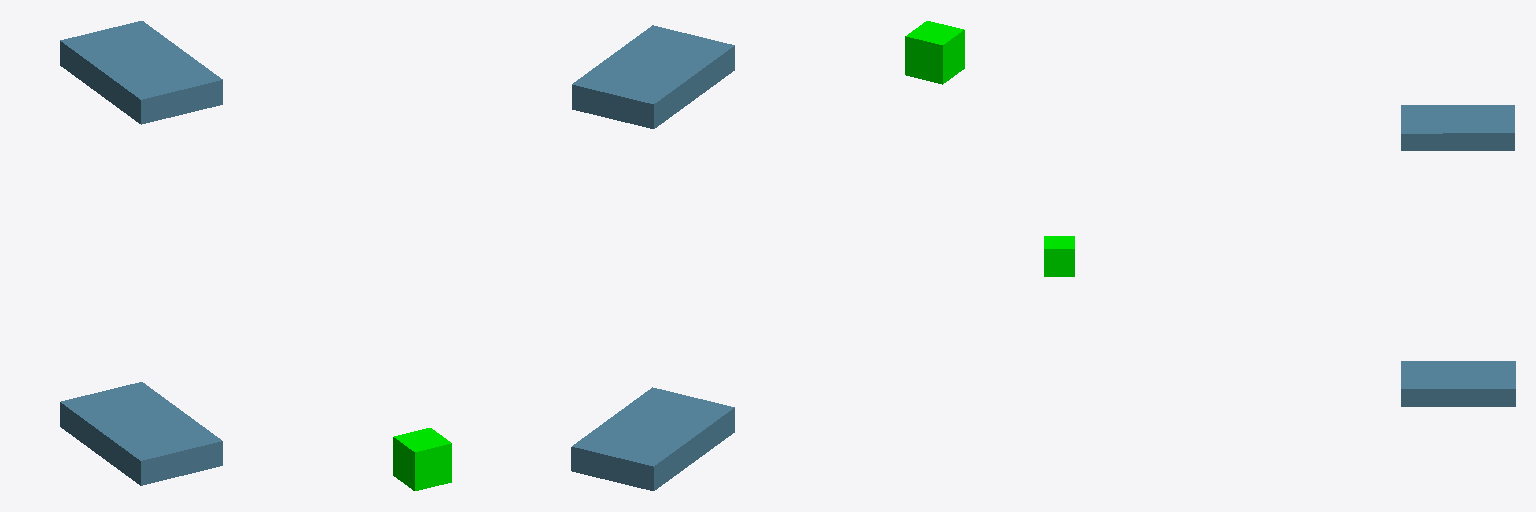
The robot description file, URDF, robot "robotiq_arg2f_85_model":
<?xml version="1.0" ?>
<!-- =================================================================================== -->
<!-- |    This document was autogenerated by xacro from robotiq_arg2f_85_model.xacro   | -->
<!-- |    EDITING THIS FILE BY HAND IS NOT RECOMMENDED                                 | -->
<!-- =================================================================================== -->
<robot name="robotiq_arg2f_85_model" kind="Gripper">
  <link name="placeholder">
    <visual>
      <geometry>
        <box size="0.01 0.01 0.01"/>
      </geometry>
      <material name="red">
        <color rgba="0 1 0 0.5"/>
      </material>
    </visual>
  </link>
  <joint name="joint_placeholder_second" type="fixed">
    <parent link="placeholder"/>
    <child link="robotiq_arg2f_base_link"/>
    <origin rpy="-1.57 0.0 0.0" xyz="0.0 0.0 0.0"/>
    <axis xyz="0 -1 0"/>
  </joint>
  <link name="robotiq_arg2f_base_link">
    <inertial>
      <origin rpy="0 0 0" xyz="8.625E-08 -4.6583E-06 0.03145"/>
      <mass value="0.22652"/>
      <inertia ixx="0.00020005" ixy="-4.2442E-10" ixz="-2.9069E-10" iyy="0.00017832" iyz="-3.4402E-08" izz="0.00013478"/>
    </inertial>
    <visual>
      <origin rpy="0 0 0" xyz="0 0 0"/>
      <geometry>
        <mesh filename="visual/robotiq_arg2f_85_base_link.dae" scale="0.001 0.001 0.001"/>
      </geometry>
      <material name="LightGrey">
        <color rgba="0.7 0.7 0.7 1.0"/>
      </material>
    </visual>
    <collision>
      <origin rpy="0 0 0" xyz="0 0 0"/>
      <geometry>
        <mesh filename="collision/robotiq_arg2f_base_link.stl"/>
      </geometry>
    </collision>
  </link>
  <joint name="finger_joint" type="revolute">
    <origin rpy="0 0 3.14159265359" xyz="0 -0.0306011 0.054904"/>
    <parent link="robotiq_arg2f_base_link"/>
    <child link="left_outer_knuckle"/>
    <axis xyz="1 0 0"/>
    <limit effort="1000" lower="0" upper="0.8757" velocity="2.0"/>
  </joint>
  <link name="left_outer_knuckle">
    <inertial>
        <origin xyz="-0.000200000000003065 0.0199435877845359 0.0292245259211331" rpy="0 0 0" />
        <mass value="0.00853198276973456" />
        <inertia ixx="2.89328108496468E-06" ixy="-1.57935047237397E-19" ixz="-1.93980378593255E-19" iyy="1.86719750325683E-06" iyz="-1.21858577871576E-06" izz="1.21905238907251E-06" />
        </inertial>
    <visual>
      <origin rpy="0 0 0" xyz="0 0 0"/>
      <geometry>
        <mesh filename="visual/robotiq_arg2f_85_outer_knuckle.dae" scale="0.001 0.001 0.001"/>
      </geometry>
      <material name="">
        <color rgba="1 1 0 1"/>
      </material>
    </visual>
    <collision>
      <origin rpy="0 0 0" xyz="0 0 0"/>
      <geometry>
        <mesh filename="collision/robotiq_arg2f_85_outer_knuckle.dae" scale="0.001 0.001 0.001"/>
      </geometry>
    </collision>
  </link>
  <joint name="left_outer_finger_joint" type="fixed">
    <origin rpy="0 0 0" xyz="0 0.0315 -0.0041"/>
    <parent link="left_outer_knuckle"/>
    <child link="left_outer_finger"/>
    <axis xyz="1 0 0"/>
  </joint>
  <link name="left_outer_finger">
    <inertial>
        <origin xyz="0.00030115855001899 0.0373907951953854 -0.0208027427000385" rpy="0 0 0" />
        <mass value="0.022614240507152" />
        <inertia ixx="1.52518312458174E-05" ixy="9.76583423954399E-10" ixz="-5.43838577022588E-10" iyy="6.17694243867776E-06" iyz="6.78636130740228E-06" izz="1.16494917907219E-05" />
        </inertial>
    <visual>
      <origin rpy="0 0 0" xyz="0 0 0"/>
      <geometry>
        <mesh filename="visual/robotiq_arg2f_85_outer_finger.dae" scale="0.001 0.001 0.001"/>
      </geometry>
      <material name="LightGrey">
        <color rgba="0 1 1 1.0"/>
      </material>
    </visual>
    <collision>
      <origin rpy="0 0 0" xyz="0 0 0"/>
      <geometry>
        <mesh filename="collision/robotiq_arg2f_85_outer_finger.dae" scale="0.001 0.001 0.001"/>
      </geometry>
    </collision>
  </link>
  <joint name="left_inner_finger_joint" type="revolute">
    <origin rpy="0 0 0" xyz="0 0.0061 0.0471"/>
    <parent link="left_outer_finger"/>
    <child link="left_inner_finger"/>
    <axis xyz="1 0 0"/>
    <limit effort="1000" lower="-0.8757" upper="0" velocity="2.0"/>
    <mimic joint="finger_joint" multiplier="-1" offset="0"/>
  </joint>
  <link name="left_inner_finger">
    <inertial>
        <origin xyz="0.000299999999999317 0.0160078233491243 -0.0136945669206257" rpy="0 0 0" />
        <mass value="0.0104003125914103" />
        <inertia ixx="2.71909453810972E-06" ixy="1.35402465472579E-21" ixz="-7.1817349065269E-22" iyy="7.69100314106116E-07" iyz="6.74715432769696E-07" izz="2.30315190420171E-06" />
        </inertial>
    <visual>
      <origin rpy="0 0 0" xyz="0 0 0"/>
      <geometry>
        <mesh filename="visual/robotiq_arg2f_85_inner_finger.dae" scale="0.001 0.001 0.001"/>
      </geometry>
      <material name="LightGrey">
        <color rgba="1 0 1 1.0"/>
      </material>
    </visual>
    <collision>
      <origin rpy="0 0 0" xyz="0 0 0"/>
      <geometry>
        <mesh filename="collision/robotiq_arg2f_85_inner_finger.dae" scale="0.001 0.001 0.001"/>
      </geometry>
    </collision>
  </link>
  <joint name="left_inner_finger_pad_joint" type="fixed">
    <origin rpy="0 0 0" xyz="0 -0.0220203446692936 0.03242"/>
    <parent link="left_inner_finger"/>
    <child link="left_inner_finger_pad"/>
    <axis xyz="0 0 1"/>
  </joint>
  <link name="left_inner_finger_pad">
    <contact>
      <friction_anchor/>
      <stiffness value="30000.0"/>
      <damping value="60000.0"/>
      <spinning_friction value="0.02"/>
      <rolling_friction value="0.02"/>
      <lateral_friction value="1.0"/>
    </contact>
    <inertial>
      <mass value="1."/>
      <inertia ixx="1E-10" ixy="1E-10" ixz="1E-10" iyy="1E-10" iyz="1E-10" izz="1E-10"/>
    </inertial>
    <visual>
      <origin rpy="0 0 0" xyz="0 0 0"/>
      <geometry>
        <box size="0.022 0.00635 0.0375"/>
      </geometry>
      <material name="UR-Blue">
        <color rgba="0.376 0.576 0.674 1.0"/>
      </material>
    </visual>
    <collision>
      <origin rpy="0 0 0" xyz="0 0 0"/>
      <geometry>
        <box size="0.022 0.00635 0.0375"/>
      </geometry>
      <material name="">
        <color rgba="0.9 0.0 0.0 1"/>
      </material>
    </collision>
  </link>
  <joint name="left_inner_knuckle_joint" type="revolute">
    <!-- <origin xyz="0 ${reflect * -0.0127} 0.06142" rpy="${pi / 2 + .725} 0 ${(reflect - 1) * pi / 2}" /> -->
    <origin rpy="0 0 3.14159265359" xyz="0 -0.0127 0.06142"/>
    <parent link="robotiq_arg2f_base_link"/>
    <child link="left_inner_knuckle"/>
    <axis xyz="1 0 0"/>
    <limit effort="1000" lower="0" upper="0.8757" velocity="2.0"/>
    <mimic joint="finger_joint" multiplier="1" offset="0"/>
  </joint>
  <link name="left_inner_knuckle">
    <inertial>
        <origin xyz="0.000123011831763771 0.0507850843201817 0.00103968640075166" rpy="0 0 0" />
       <mass value="0.0271177346495152" />
        <inertia ixx="2.61910379223783E-05" ixy="-2.43616858946494E-07" ixz="-6.37789906117123E-09" iyy="2.8270243746167E-06" iyz="-5.37200748039765E-07" izz="2.83695868220296E-05" />
        </inertial>
    <visual>
      <origin rpy="0 0 0" xyz="0 0 0"/>
      <geometry>
        <mesh filename="visual/robotiq_arg2f_85_inner_knuckle.dae" scale="0.001 0.001 0.001"/>
      </geometry>
      <material name="LightGrey">
        <color rgba="0 0 1 1.0"/>
      </material>
    </visual>
    <collision>
      <origin rpy="0 0 0" xyz="0 0 0"/>
      <geometry>
        <mesh filename="collision/robotiq_arg2f_85_inner_knuckle.dae" scale="0.001 0.001 0.001"/>
      </geometry>
    </collision>
  </link>
  <joint name="right_outer_knuckle_joint" type="revolute" >
    <origin rpy="0 0 0" xyz="0 0.0306011 0.054904"/>
    <parent link="robotiq_arg2f_base_link"/>
    <child link="right_outer_knuckle"/>
    <axis xyz="1 0 0"/>
    <limit effort="1000" lower="0" upper="0.8757" velocity="2.0"/>
    <mimic joint="finger_joint" multiplier="1" offset="0"/>
  </joint>
  <link name="right_outer_knuckle">
    <inertial>
        <origin xyz="-0.000200000000003065 0.0199435877845359 0.0292245259211331" rpy="0 0 0" />
        <mass value="0.00853198276973456" />
        <inertia ixx="2.89328108496468E-06" ixy="-1.57935047237397E-19" ixz="-1.93980378593255E-19" iyy="1.86719750325683E-06" iyz="-1.21858577871576E-06" izz="1.21905238907251E-06" />
        </inertial>
    <visual>
      <origin rpy="0 0 0" xyz="0 0 0"/>
      <geometry>
        <mesh filename="visual/robotiq_arg2f_85_outer_knuckle.dae" scale="0.001 0.001 0.001"/>
      </geometry>
      <material name="">
        <color rgba="0.792156862745098 0.819607843137255 0.933333333333333 1"/>
      </material>
    </visual>
    <collision>
      <origin rpy="0 0 0" xyz="0 0 0"/>
      <geometry>
        <mesh filename="collision/robotiq_arg2f_85_outer_knuckle.dae" scale="0.001 0.001 0.001"/>
      </geometry>
    </collision>
  </link>
  <joint name="right_outer_finger_joint" type="fixed">
    <origin rpy="0 0 0" xyz="0 0.0315 -0.0041"/>
    <parent link="right_outer_knuckle"/>
    <child link="right_outer_finger"/>
    <axis xyz="1 0 0"/>
  </joint>
  <link name="right_outer_finger">
    <inertial>
        <origin xyz="0.00030115855001899 0.0373907951953854 -0.0208027427000385" rpy="0 0 0" />
        <mass value="0.022614240507152" />
        <inertia ixx="1.52518312458174E-05" ixy="9.76583423954399E-10" ixz="-5.43838577022588E-10" iyy="6.17694243867776E-06" iyz="6.78636130740228E-06" izz="1.16494917907219E-05" />
        </inertial>
    <visual>
      <origin rpy="0 0 0" xyz="0 0 0"/>
      <geometry>
        <mesh filename="visual/robotiq_arg2f_85_outer_finger.dae" scale="0.001 0.001 0.001"/>
      </geometry>
      <material name="LightGrey">
        <color rgba="0.7 0.7 0.7 1.0"/>
      </material>
    </visual>
    <collision>
      <origin rpy="0 0 0" xyz="0 0 0"/>
      <geometry>
        <mesh filename="collision/robotiq_arg2f_85_outer_finger.dae" scale="0.001 0.001 0.001"/>
      </geometry>
    </collision>
  </link>
  <joint name="right_inner_finger_joint" type="revolute">
    <origin rpy="0 0 0" xyz="0 0.0061 0.0471"/>
    <parent link="right_outer_finger"/>
    <child link="right_inner_finger"/>
    <axis xyz="1 0 0"/>
    <limit effort="1000" lower="-0.8757" upper="0" velocity="2.0"/>
    <mimic joint="finger_joint" multiplier="-1" offset="0"/>
  </joint>
  <link name="right_inner_finger">
    <inertial>
        <origin xyz="0.000299999999999317 0.0160078233491243 -0.0136945669206257" rpy="0 0 0" />
        <mass value="0.0104003125914103" />
        <inertia ixx="2.71909453810972E-06" ixy="1.35402465472579E-21" ixz="-7.1817349065269E-22" iyy="7.69100314106116E-07" iyz="6.74715432769696E-07" izz="2.30315190420171E-06" />
        </inertial>
    <visual>
      <origin rpy="0 0 0" xyz="0 0 0"/>
      <geometry>
        <mesh filename="visual/robotiq_arg2f_85_inner_finger.dae" scale="0.001 0.001 0.001"/>
      </geometry>
      <material name="">
        <color rgba="0.1 0.1 0.1 1"/>
      </material>
    </visual>
    <collision>
      <origin rpy="0 0 0" xyz="0 0 0"/>
      <geometry>
        <mesh filename="collision/robotiq_arg2f_85_inner_finger.dae" scale="0.001 0.001 0.001"/>
      </geometry>
    </collision>
  </link>
  <joint name="right_inner_finger_pad_joint" type="fixed">
    <origin rpy="0 0 0" xyz="0 -0.0220203446692936 0.03242"/>
    <parent link="right_inner_finger"/>
    <child link="right_inner_finger_pad"/>
    <axis xyz="0 0 1"/>
  </joint>
  <link name="right_inner_finger_pad">
    <contact>
      <friction_anchor/>
      <stiffness value="30000.0"/>
      <damping value="60000.0"/>
      <spinning_friction value="0.02"/>
      <rolling_friction value="0.02"/>
      <lateral_friction value="1.0"/>
    </contact>
    <inertial>
      <mass value="1"/>
      <inertia ixx="1E-10" ixy="1E-10" ixz="1E-10" iyy="1E-10" iyz="1E-10" izz="1E-10"/>
    </inertial>
    <visual>
      <origin rpy="0 0 0" xyz="0 0 0"/>
      <geometry>
        <box size="0.022 0.00635 0.0375"/>
      </geometry>
      <material name="UR-Blue">
        <color rgba="0.376 0.576 0.674 1.0"/>
      </material>
    </visual>
    <collision>
      <origin rpy="0 0 0" xyz="0 0 0"/>
      <geometry>
        <box size="0.022 0.00635 0.0375"/>
      </geometry>
      <material name="LightGrey">
        <color rgba="0.7 0.7 0.7 1.0"/>
      </material>
    </collision>
  </link>
  <joint name="right_inner_knuckle_joint" type="revolute">
    <!-- <origin xyz="0 ${reflect * -0.0127} 0.06142" rpy="${pi / 2 + .725} 0 ${(reflect - 1) * pi / 2}" /> -->
    <origin rpy="0 0 0.0" xyz="0 0.0127 0.06142"/>
    <parent link="robotiq_arg2f_base_link"/>
    <child link="right_inner_knuckle"/>
    <axis xyz="1 0 0"/>
    <limit effort="1000" lower="0" upper="0.8757" velocity="2.0"/>
    <mimic joint="finger_joint" multiplier="1" offset="0"/>
  </joint>
  <link name="right_inner_knuckle">
    <inertial>
        <origin xyz="0.000123011831763771 0.0507850843201817 0.00103968640075166" rpy="0 0 0" />
       <mass value="0.0271177346495152" />
        <inertia ixx="2.61910379223783E-05" ixy="-2.43616858946494E-07" ixz="-6.37789906117123E-09" iyy="2.8270243746167E-06" iyz="-5.37200748039765E-07" izz="2.83695868220296E-05" />
        </inertial>
    <visual>
      <origin rpy="0 0 0" xyz="0 0 0"/>
      <geometry>
        <mesh filename="visual/robotiq_arg2f_85_inner_knuckle.dae" scale="0.001 0.001 0.001"/>
      </geometry>
      <material name="LightGrey">
        <color rgba="0.7 0.7 0.7 1.0"/>
      </material>
    </visual>
    <collision>
      <origin rpy="0 0 0" xyz="0 0 0"/>
      <geometry>
        <mesh filename="collision/robotiq_arg2f_85_inner_knuckle.dae" scale="0.001 0.001 0.001"/>
      </geometry>
    </collision>
  </link>
  <joint name="joint_ee" type="fixed">
    <parent link="robotiq_arg2f_base_link"/>
    <child link="ee_link"/>
    <origin rpy="3.14 0.0 0.0" xyz="0.0 0.0 0.14"/>
  </joint>
  <link name="ee_link"/>
</robot>

--- What the picture shows (computed from the rendered views, not written in the file) ---
3 views of the same robot in one strip: view 1: azimuth 30°, elevation 25°; view 2: azimuth 150°, elevation 25°; view 3: azimuth 270°, elevation 25° (orthographic).
Model robotiq_arg2f_85_model with 13 links and 12 joints (6 revolute, 6 fixed), rooted at placeholder, posed all joints at 0.
Visible links, largest first — view 1: right_inner_finger_pad, left_inner_finger_pad, placeholder; view 2: right_inner_finger_pad, left_inner_finger_pad, placeholder; view 3: right_inner_finger_pad, left_inner_finger_pad, placeholder.
Link boxes in pixels (x1,y1,x2,y2): right_inner_finger_pad: (60, 382, 222, 485); left_inner_finger_pad: (60, 21, 222, 124); placeholder: (393, 428, 451, 490); right_inner_finger_pad: (571, 387, 734, 490); left_inner_finger_pad: (572, 25, 734, 128); placeholder: (905, 21, 964, 84); right_inner_finger_pad: (1401, 361, 1515, 406); left_inner_finger_pad: (1401, 105, 1514, 150); placeholder: (1044, 236, 1074, 276).
Size in the robot's own frame: 0.022 by 0.1541 by 0.0987 metres.
0 mesh visuals loaded from 5 distinct referenced files (none loaded); not drawn: 9 (reference not matched to a file when rendering).